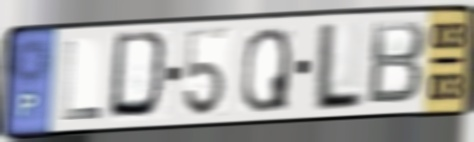5: (181, 24, 236, 121)
B: (365, 17, 429, 108)
D: (106, 28, 175, 124)
L: (309, 19, 367, 115), (59, 38, 104, 124)
Q: (239, 24, 292, 115)
